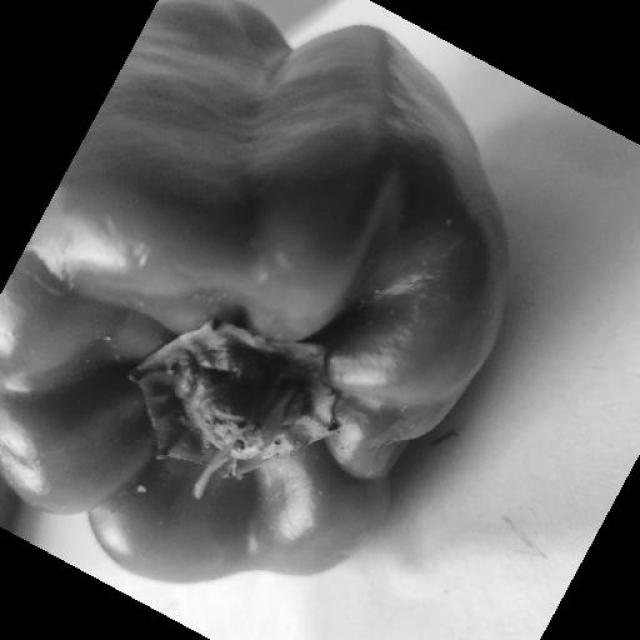Fresh_Capsicum: (77, 41, 491, 546)
